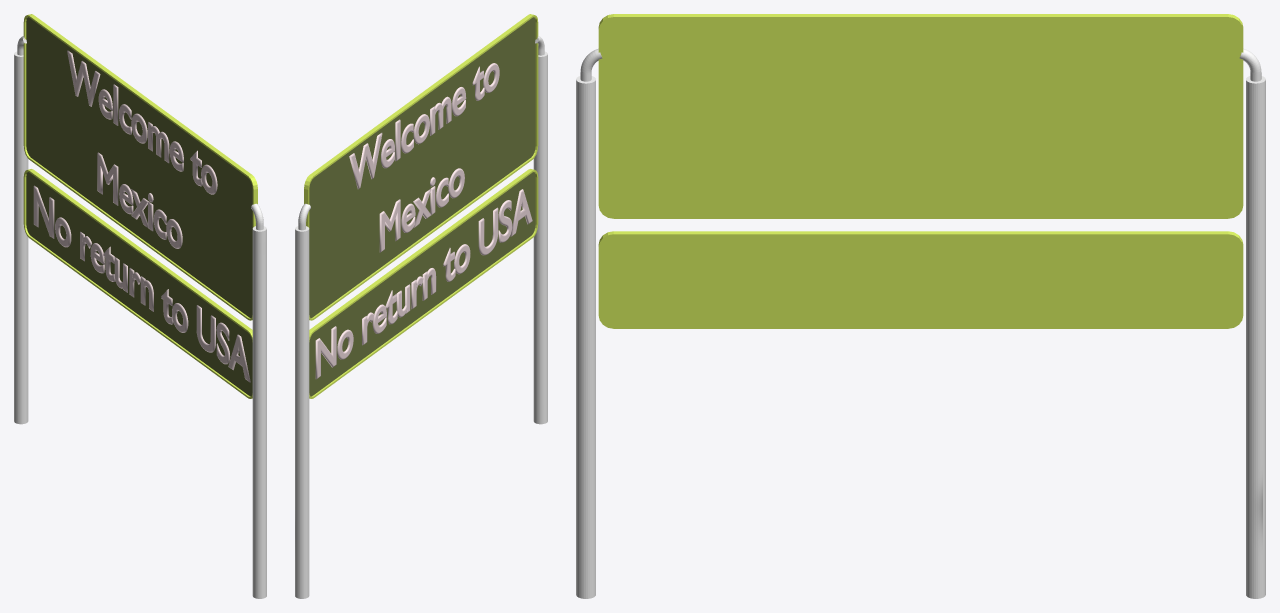
File: SignMain.fbx
3 views of the same model, side by side, from view 1: azimuth 30°, elevation 25°; view 2: azimuth 150°, elevation 25°; view 3: azimuth 270°, elevation 25° (orthographic). The views are drawn at different scales.
Visible parts, largest first — view 1: Cylinder; view 2: Cylinder; view 3: Cylinder.
Boxes of the visible parts, x1,y1,x2,y2 form: Cylinder: (14, 14, 266, 598); Cylinder: (295, 14, 547, 598); Cylinder: (576, 14, 1265, 598).
Size of the model in its own units: 35.56 by 1140 by 1229.
1 material, 1 textured.
